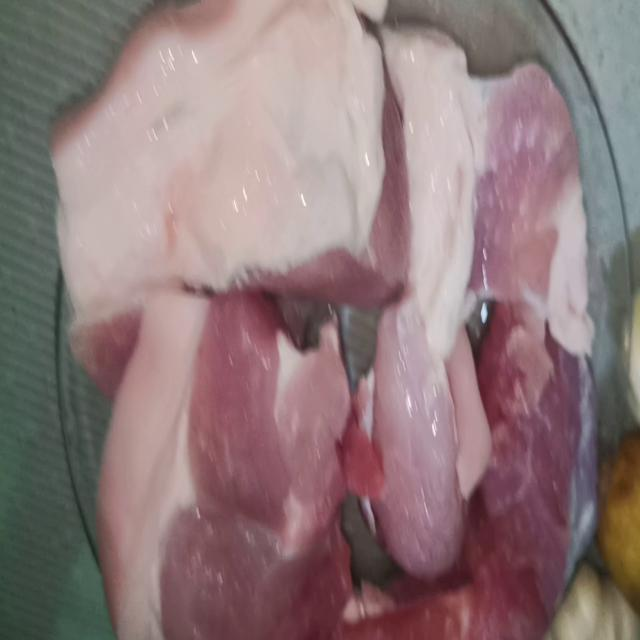garlic: (556, 567, 636, 640)
pork: (47, 0, 586, 640), (50, 17, 415, 365), (409, 51, 609, 640), (99, 289, 397, 640), (367, 275, 516, 595)
potato: (599, 441, 640, 600)
